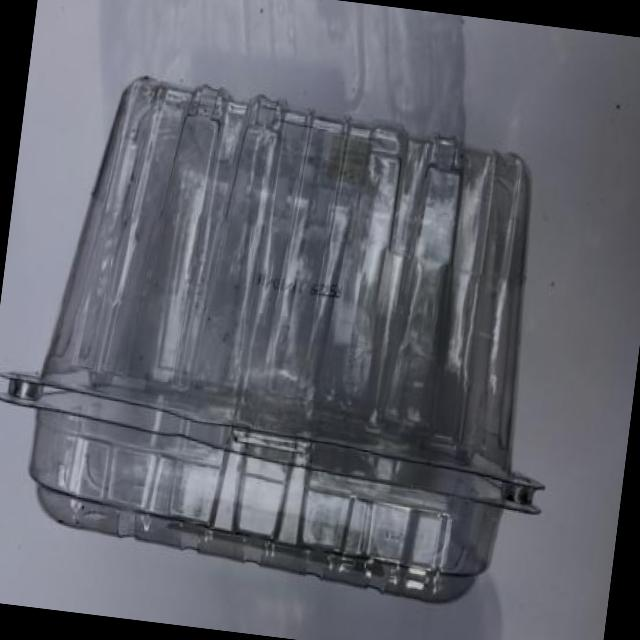Trash: (31, 66, 568, 604)
